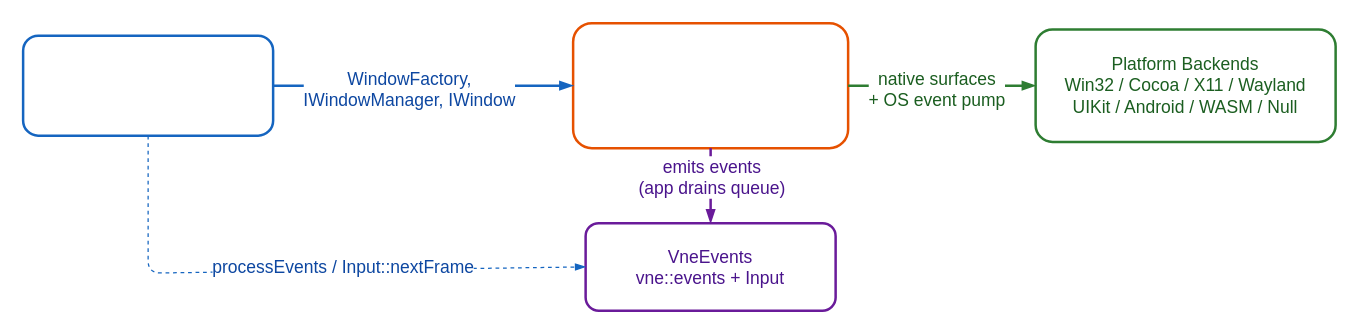
Some shapes in this 1358 by 333 pixel diagram are drawn without their labels. Here are the shapes that lost their labels. From the top down, the centre of each, then its label:
At point (147, 85): "C++ Application (Developer / User Code)".
At point (710, 85): "VneCrossWindow (vne::xwin)".
